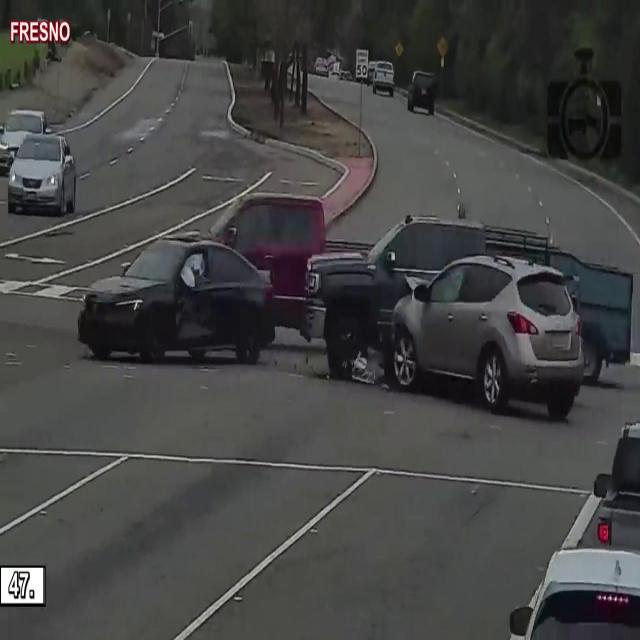accident: (300, 192, 602, 432), (72, 220, 286, 400)
